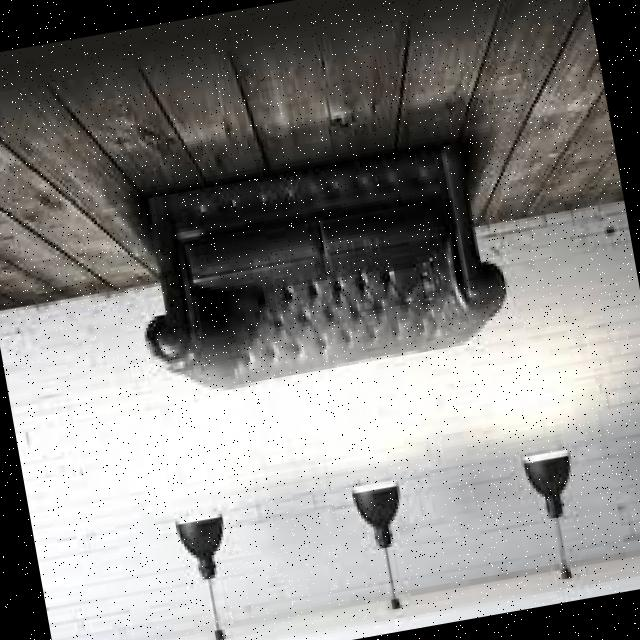Sofa: (74, 98, 553, 436)
